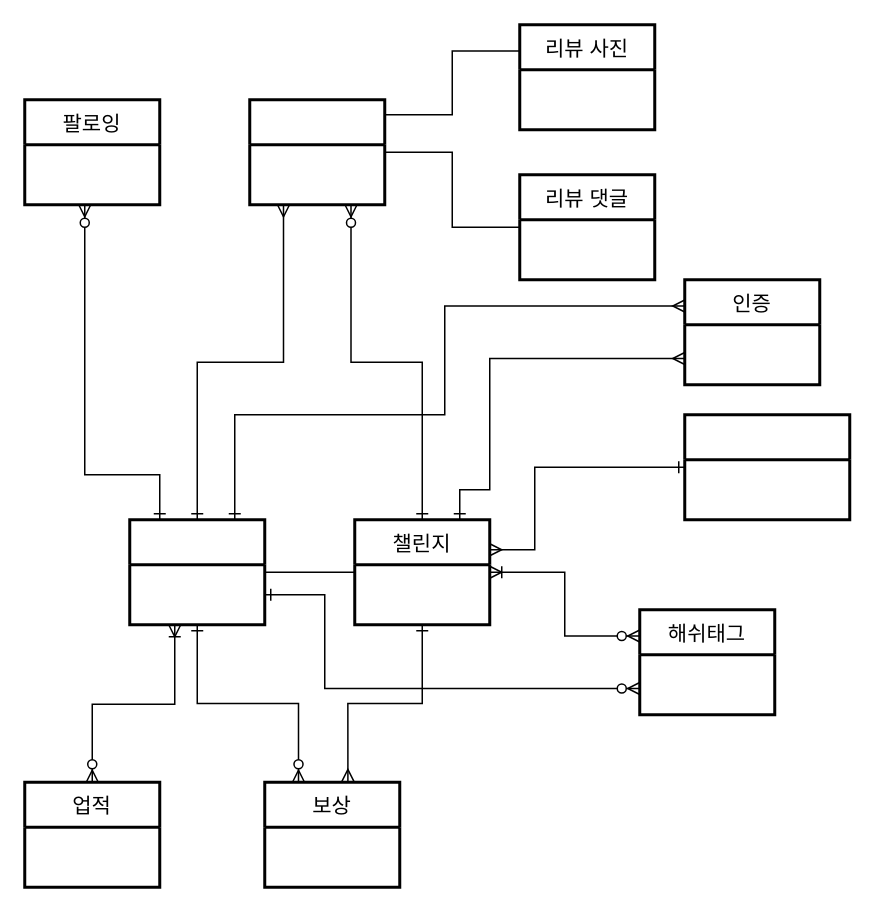
Image size: 875x912. Some labels were removed from this diagram. Each missing label, with the centre of its shape:
유저: (197,572)
챌린지 리뷰: (317,152)
챌린지 카테고리: (766,466)
